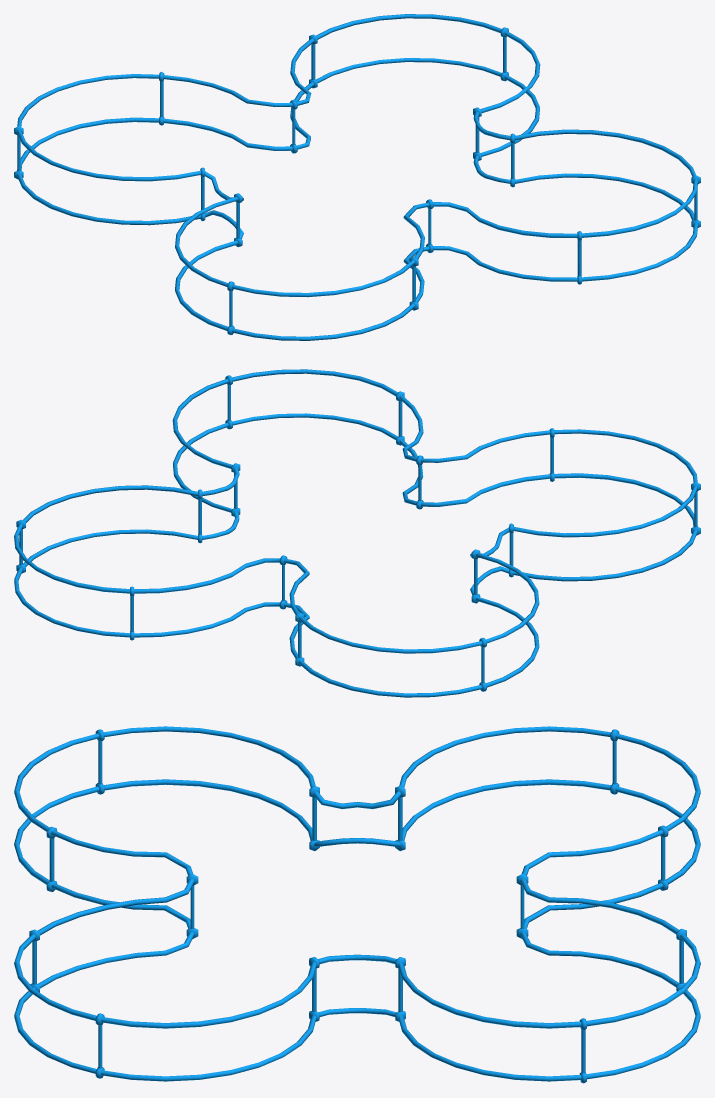
The model's file is Salamandre_Protection.FBX.
3 renders of one model, top to bottom at view 1: azimuth 30°, elevation 25°; view 2: azimuth 150°, elevation 25°; view 3: azimuth 270°, elevation 25°, orthographic. The views are drawn at different scales.
Visible parts, largest first — view 1: Salamandre_Protection; view 2: Salamandre_Protection; view 3: Salamandre_Protection.
Boxes of the visible parts, x1=… form: Salamandre_Protection: x1=14, y1=14, x2=700, y2=340; Salamandre_Protection: x1=14, y1=369, x2=700, y2=697; Salamandre_Protection: x1=14, y1=726, x2=700, y2=1083.
Size of the model in its own units: 30.44 by 3.69 by 30.44.
